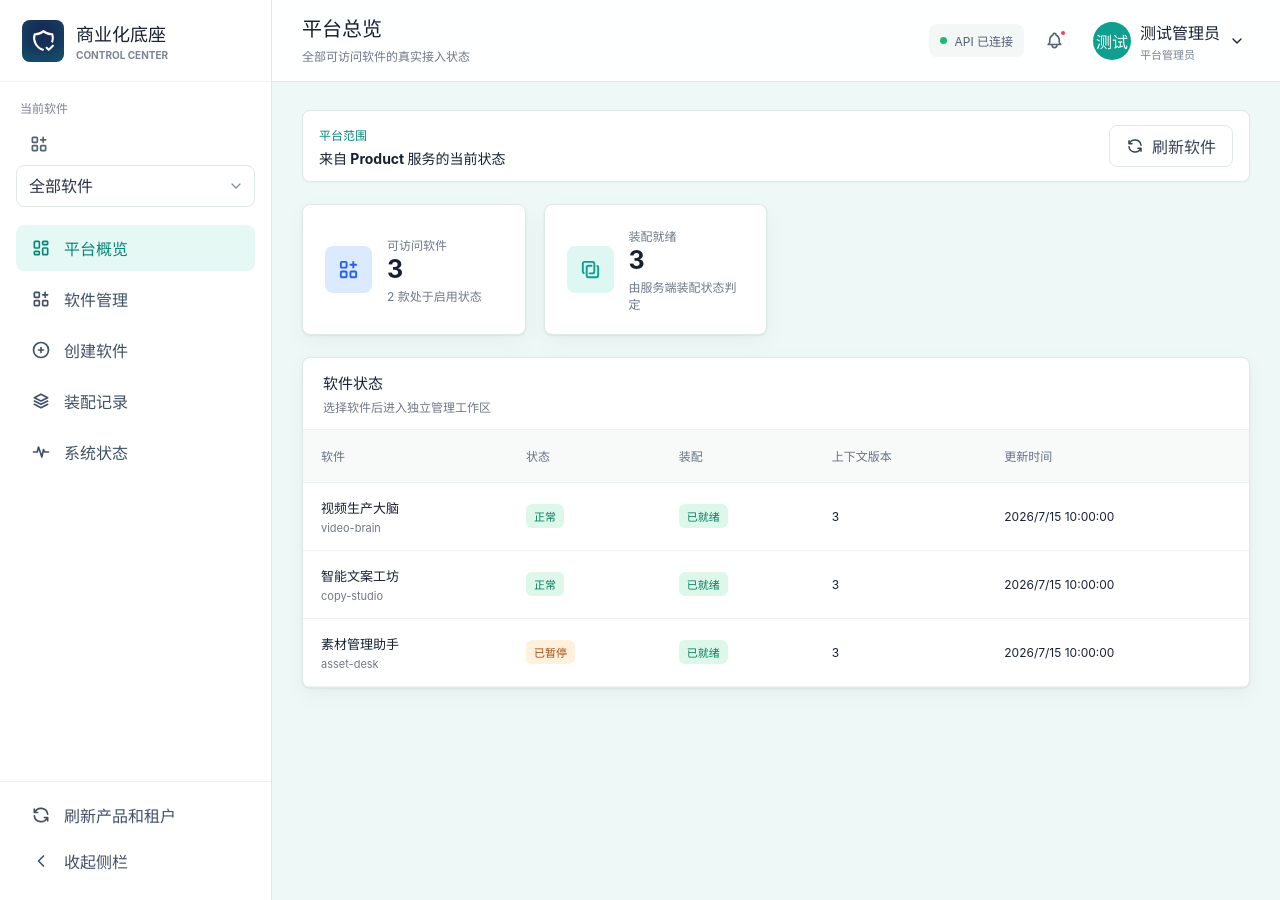
Test: 弹层与导航可访问性 › 通知与账号菜单互斥且支持 Escape 关闭
The width and height of the screenshot is (1280, 900).
Expected: the heading "平台总览" is shown, left=302, top=17, right=382, bottom=41
Click the button named "系统通知".
click(1055, 40)  # box left=1036, top=22, right=1074, bottom=60
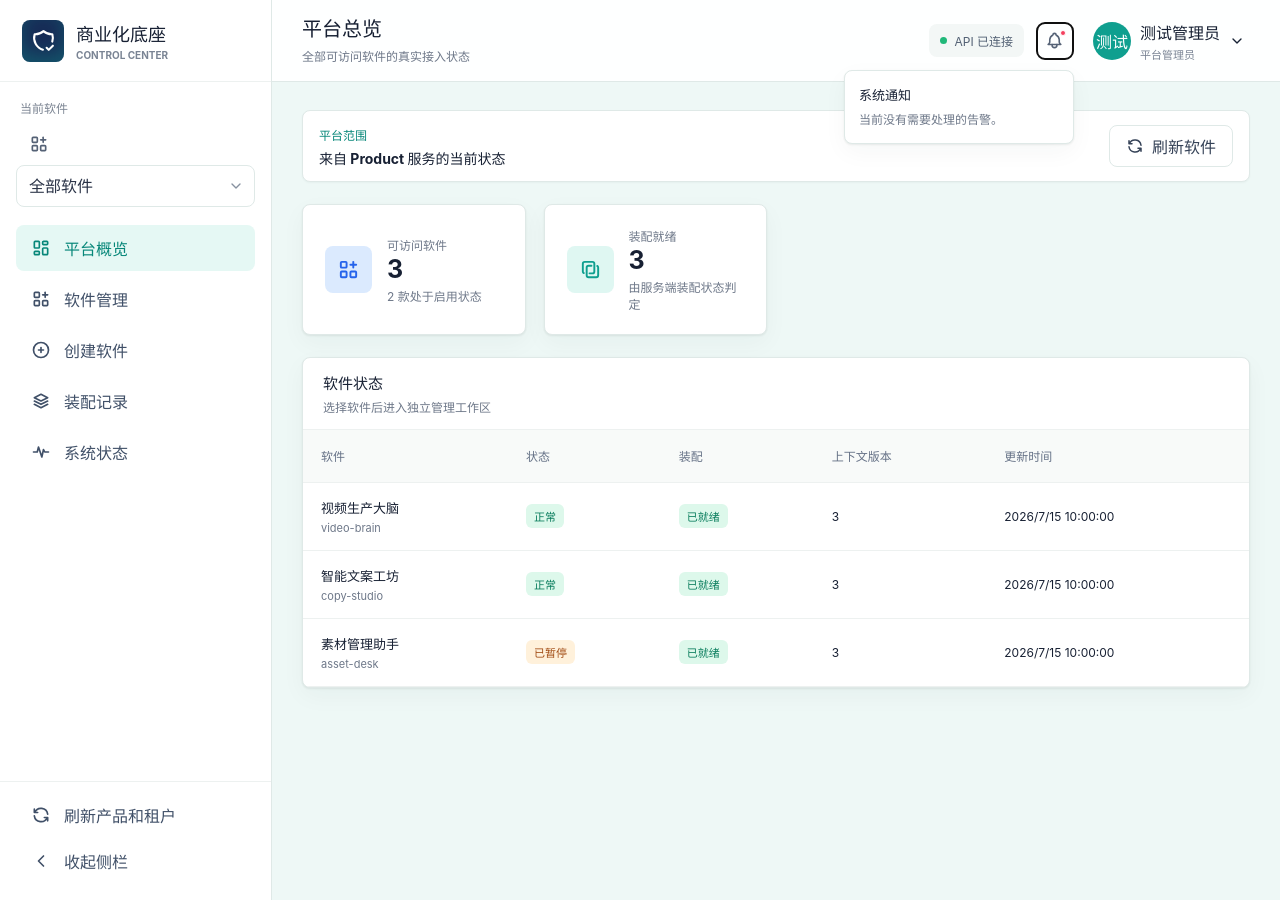
Expected: the dialog "系统通知" is shown, left=844, top=70, right=1074, bottom=144
Click the button with aria-label "测试管理员，平台管理员".
click(1169, 40)  # box left=1086, top=14, right=1252, bottom=66
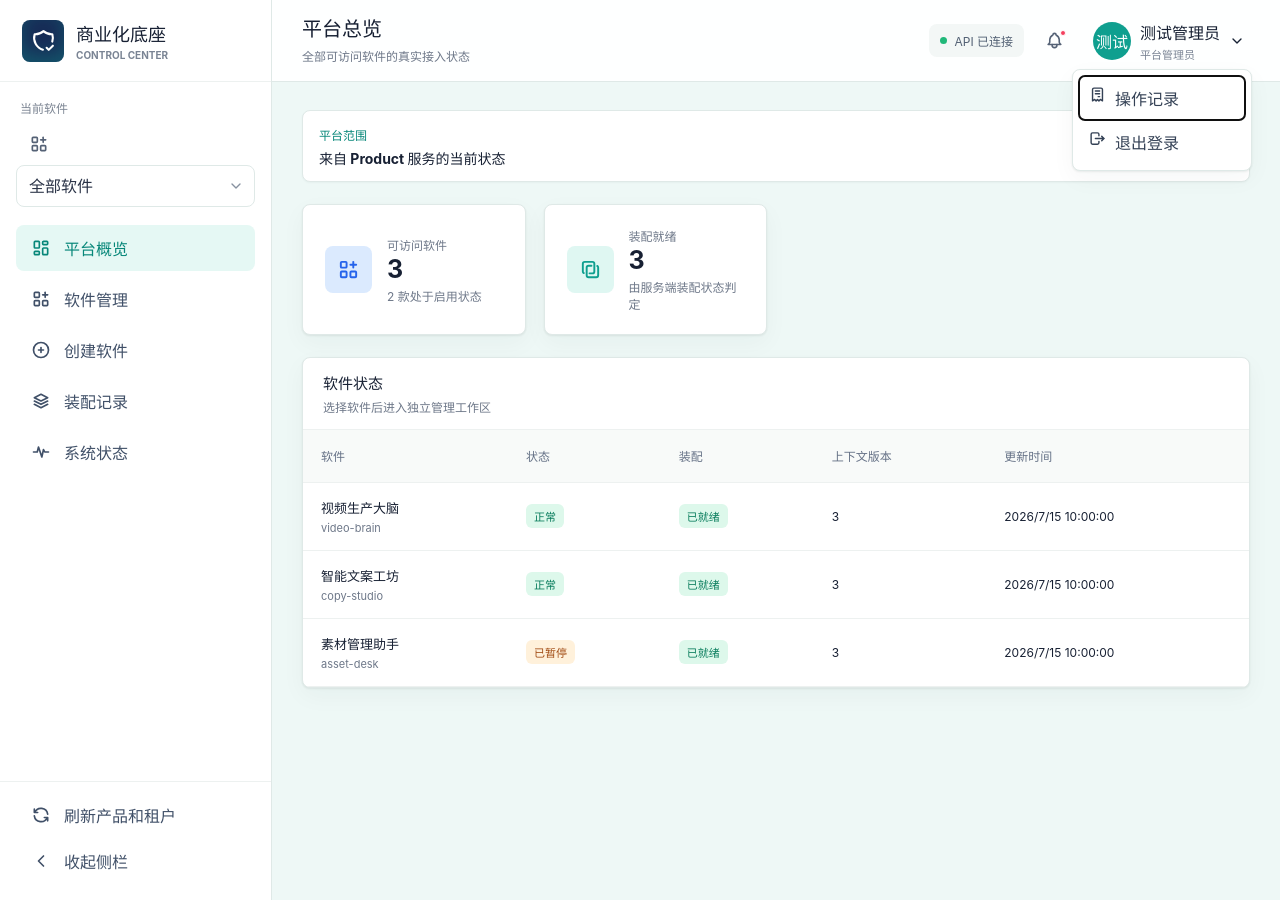
Expected: the text "系统通知" is gone
Expected: the menu is shown, left=1072, top=68, right=1252, bottom=170
Press Escape
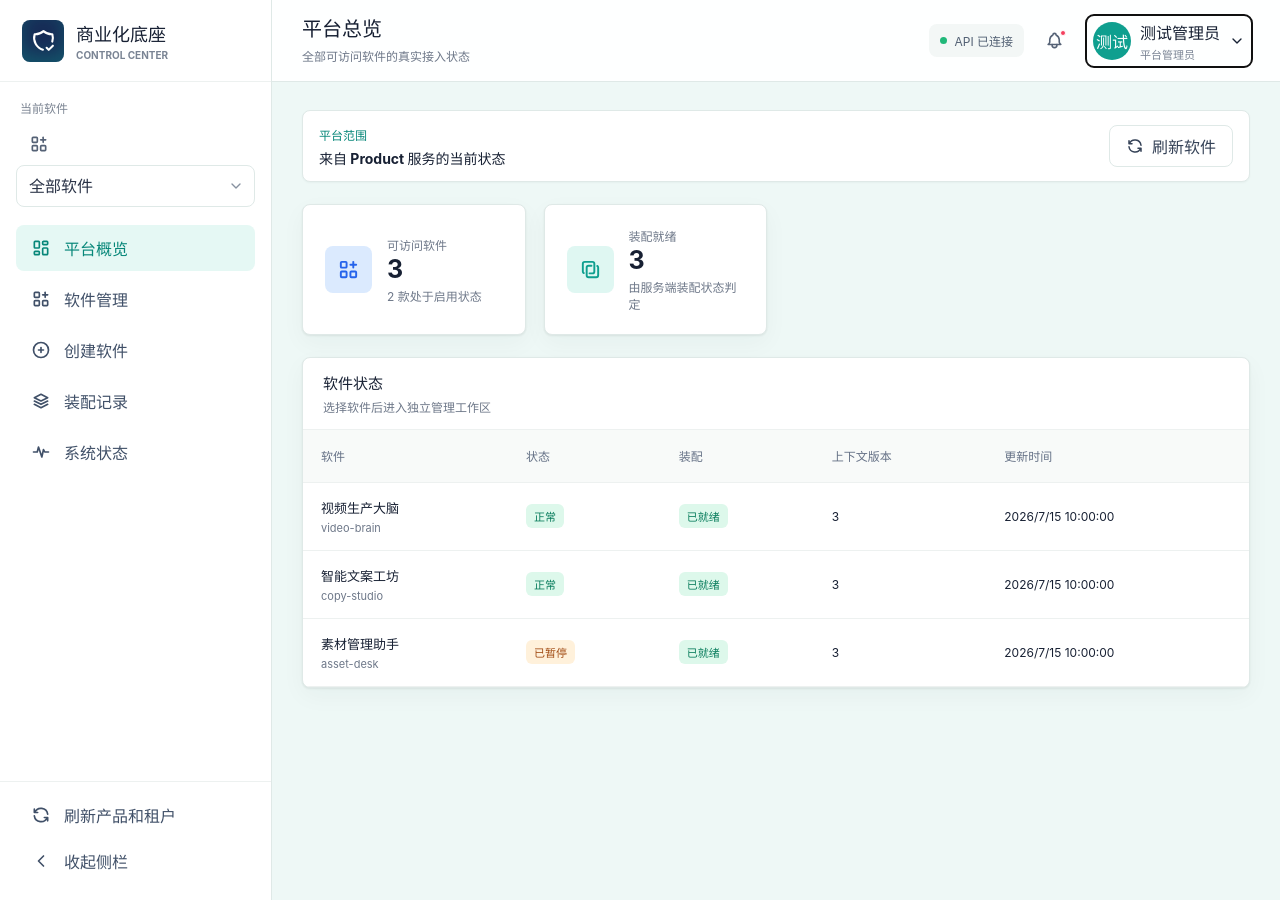
Expected: the menu is gone
